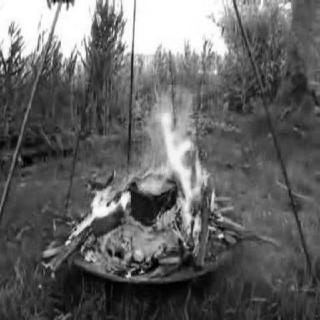Fire: (44, 50, 258, 272)
